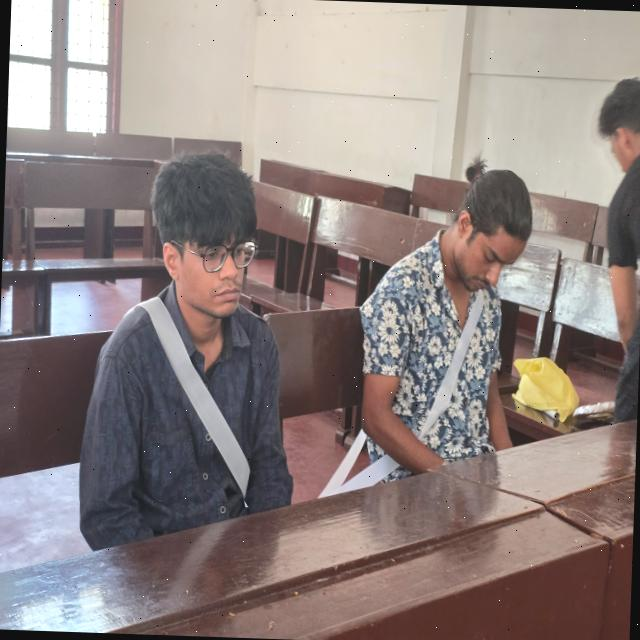seatbelt: (125, 287, 258, 523), (393, 284, 482, 474)
